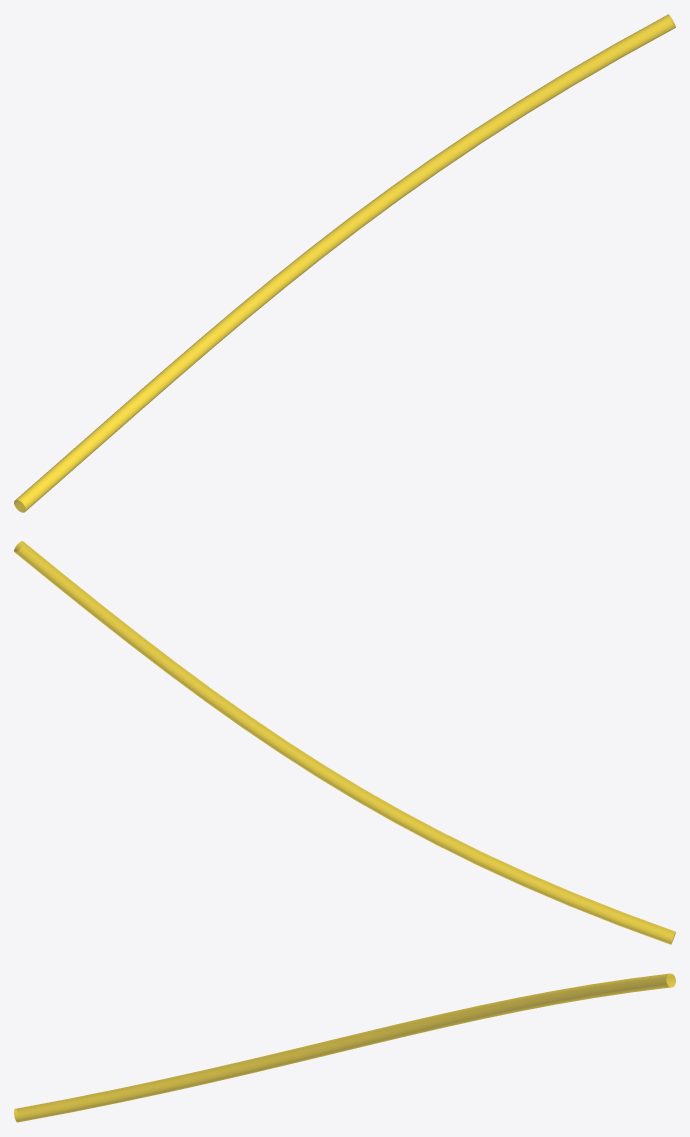
File: Event_17758602_track_181.fbx
3 views of the same model, one above another, from view 1: azimuth 30°, elevation 25°; view 2: azimuth 150°, elevation 25°; view 3: azimuth 330°, elevation 25° (orthographic). The views are drawn at different scales.
Parts seen in each view (by area): view 1: Model; view 2: Model; view 3: Model.
Part boxes in pixels (left/top/right/bottom): Model: left=14, top=14, right=675, bottom=512; Model: left=14, top=541, right=675, bottom=944; Model: left=14, top=973, right=675, bottom=1122.
Bounding box in the file's own units: 2.07 × 0.8663 × 0.294.
